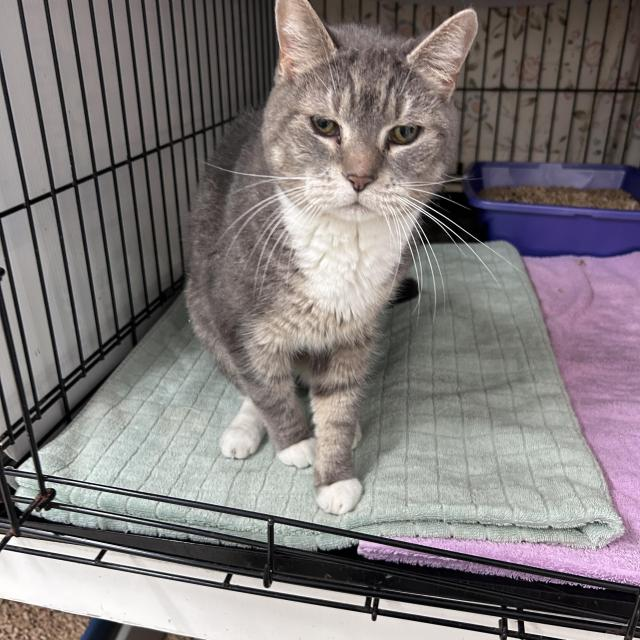domestic_short_hair_cat: (228, 0, 498, 251)
